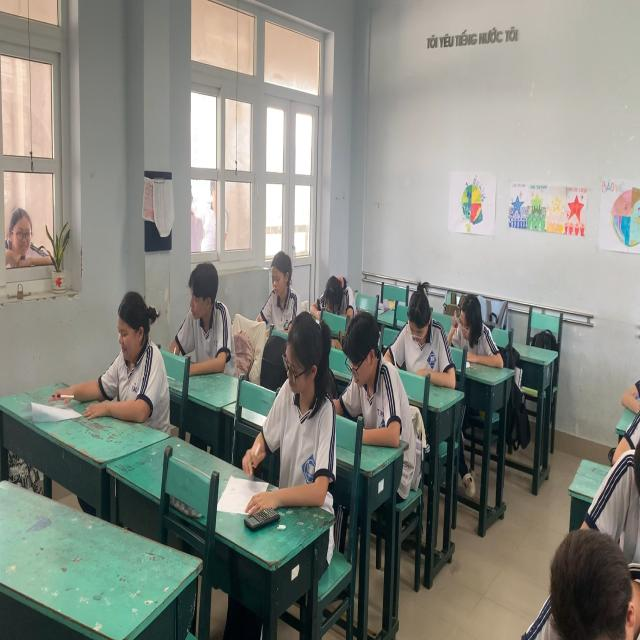not_cheating: (282, 310, 336, 475), (109, 282, 159, 433), (178, 258, 229, 375), (342, 310, 385, 410), (394, 278, 449, 354), (451, 282, 501, 358), (254, 248, 305, 316), (316, 268, 352, 320)
